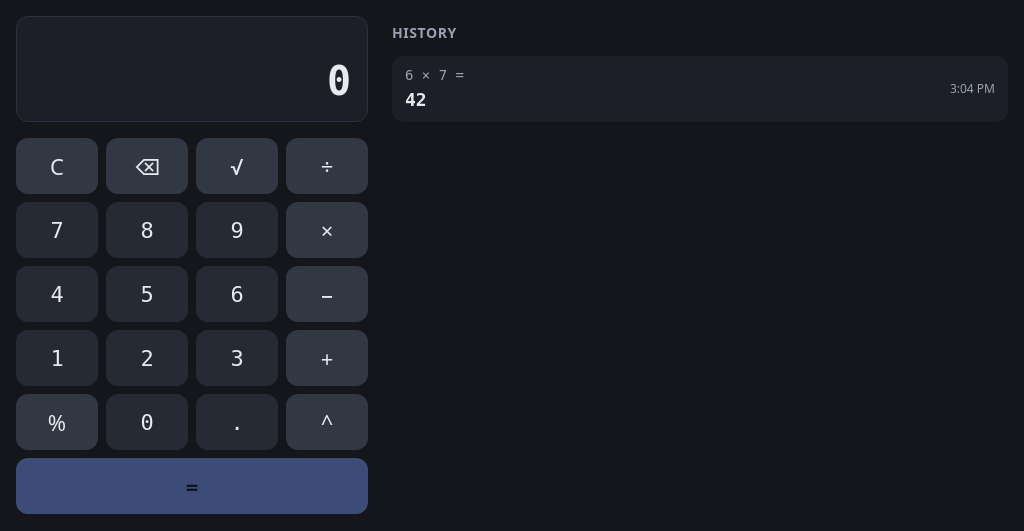
Test case: Calculator › puts a past result on the display and chains from it
The width and height of the screenshot is (1024, 531).
What coordinates should you click on to do the following:
click the button with aria-label "Use 42, from 6 × 7"
I would click on:
 (426, 75)
Its box is [392,56,1008,122].
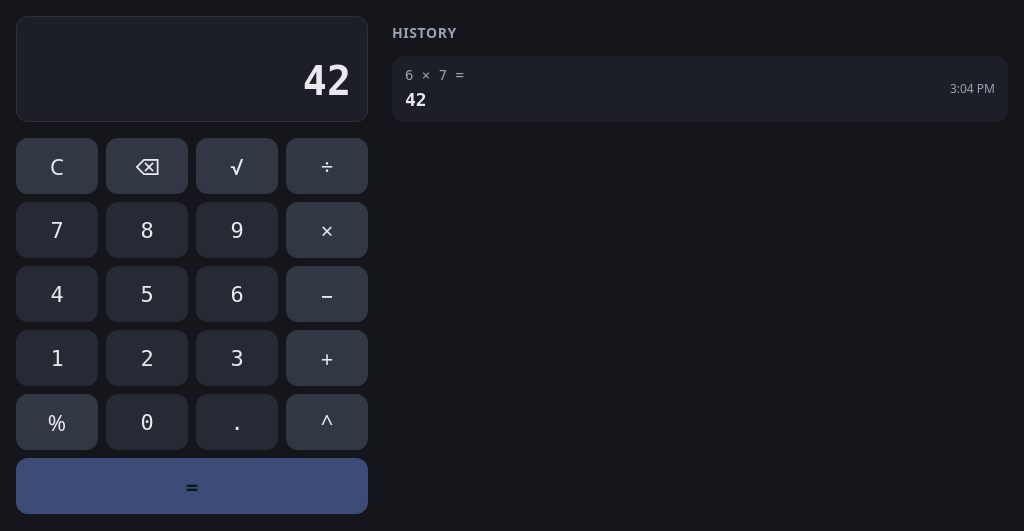
Check: the 1st text "42" is shown, box [303,58,351,104]
What coordinates should you click on to do the following:
click the button named "Add"
I would click on:
 (327, 358)
Its box is [286,330,368,386].
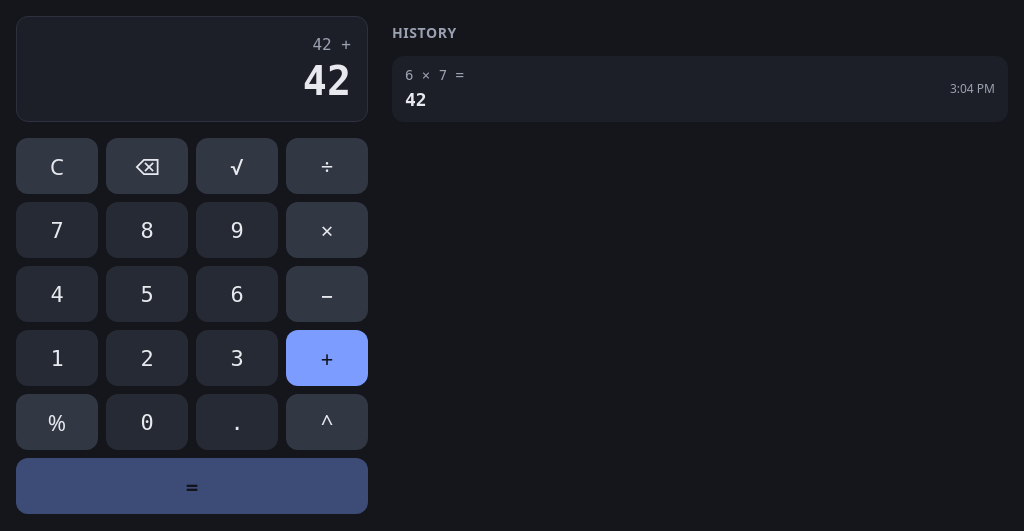
What coordinates should you click on to do the following:
click the button "2"
I would click on:
 (147, 358)
Its box is [106,330,188,386].
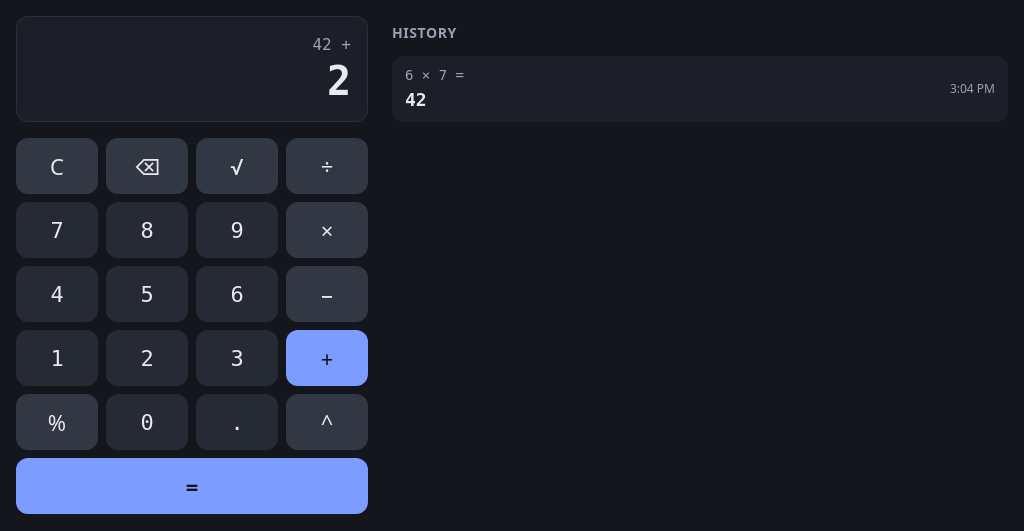
What coordinates should you click on to do the following:
click the button named "Equals"
I would click on:
 (192, 486)
Its box is [16,458,368,514].
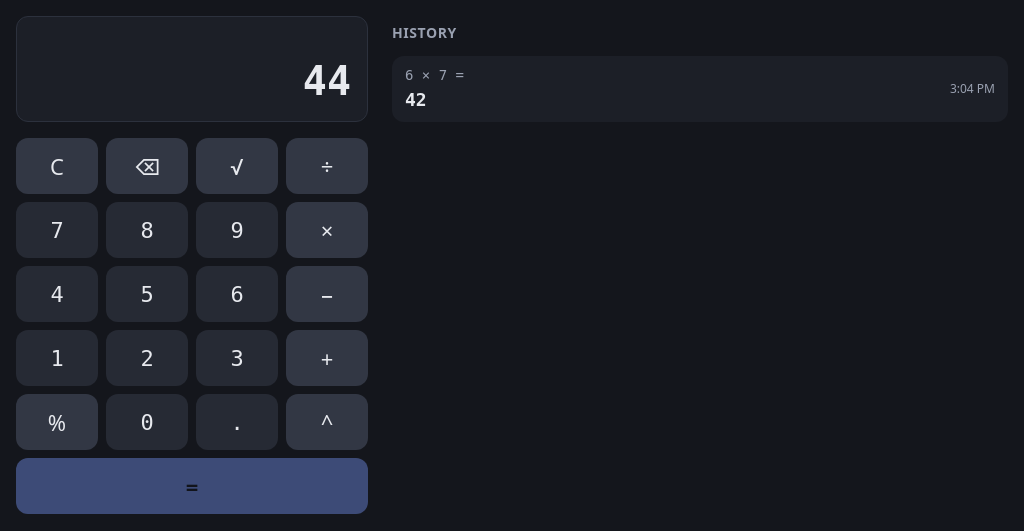
Check: the text "44" is shown, box [303,58,351,104]
